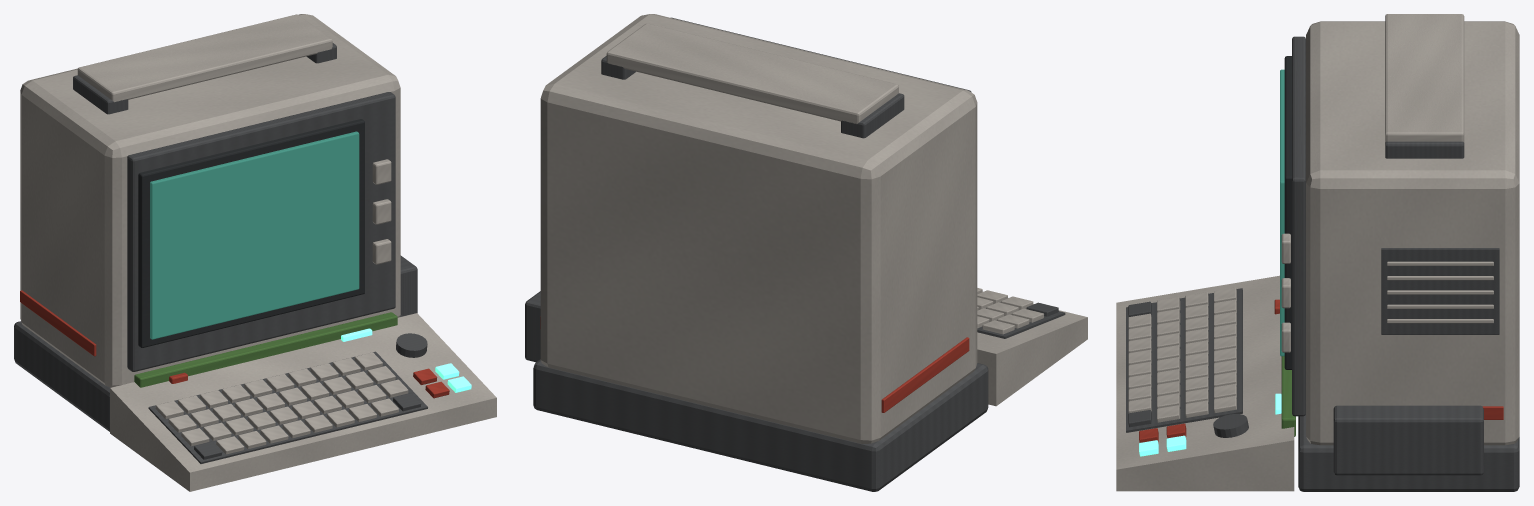
Rendered from retro_computer_verification.glb.
3 renders of one model, left to right at view 1: azimuth 30°, elevation 25°; view 2: azimuth 150°, elevation 25°; view 3: azimuth 270°, elevation 25°, orthographic. The views are drawn at different scales.
Parts seen in each view (by area): view 1: computer_body, screen, keyboard, screen_bezel, keyboard_keys_light.003, top_handle.003, screen_rubber_seal.003, computer_base, screen_lower_strip, keyboard_inset, side_red_stripe.008, cartridge_reader_mount (+3 smaller); view 2: computer_body, computer_base, top_handle.003, keyboard, keyboard_keys_light.003, side_red_stripe.008, top_handle_support.006, cartridge_reader_mount; view 3: computer_body, keyboard, keyboard_keys_light.003, cartridge_reader_mount, top_handle.003, vent_backing.003, computer_base, screen_bezel, keyboard_inset, screen_rubber_seal.003, top_handle_support.007, screen (+8 smaller).
Boxes of the visible parts, bbox=[...] form: computer_body: bbox=[20, 14, 400, 387]; screen: bbox=[150, 131, 359, 339]; keyboard: bbox=[110, 313, 496, 491]; screen_bezel: bbox=[127, 92, 395, 371]; keyboard_keys_light.003: bbox=[155, 352, 408, 454]; top_handle.003: bbox=[77, 14, 332, 102]; screen_rubber_seal.003: bbox=[138, 119, 364, 347]; computer_base: bbox=[14, 315, 402, 431]; screen_lower_strip: bbox=[134, 312, 397, 387]; keyboard_inset: bbox=[148, 351, 427, 463]; side_red_stripe.008: bbox=[20, 290, 96, 356]; cartridge_reader_mount: bbox=[400, 255, 417, 316]; computer_body: bbox=[540, 14, 977, 443]; computer_base: bbox=[533, 359, 988, 491]; top_handle.003: bbox=[606, 23, 898, 123]; keyboard: bbox=[977, 291, 1087, 406]; keyboard_keys_light.003: bbox=[977, 288, 1043, 334]; side_red_stripe.008: bbox=[881, 337, 969, 412]; top_handle_support.006: bbox=[841, 93, 904, 138]; cartridge_reader_mount: bbox=[525, 291, 540, 362]; computer_body: bbox=[1306, 21, 1519, 445]; keyboard: bbox=[1116, 275, 1294, 491]; keyboard_keys_light.003: bbox=[1128, 287, 1236, 422]; cartridge_reader_mount: bbox=[1333, 405, 1483, 475]; top_handle.003: bbox=[1385, 14, 1464, 142]; vent_backing.003: bbox=[1381, 248, 1499, 334]; computer_base: bbox=[1298, 414, 1519, 491]; screen_bezel: bbox=[1292, 36, 1305, 416]; keyboard_inset: bbox=[1126, 288, 1242, 432]; screen_rubber_seal.003: bbox=[1284, 56, 1291, 369]; top_handle_support.007: bbox=[1385, 141, 1464, 158]; screen: bbox=[1280, 69, 1284, 356].
Size of the model in its own units: 0.5315 by 0.4735 by 0.51.
7 materials, 5 textured.
